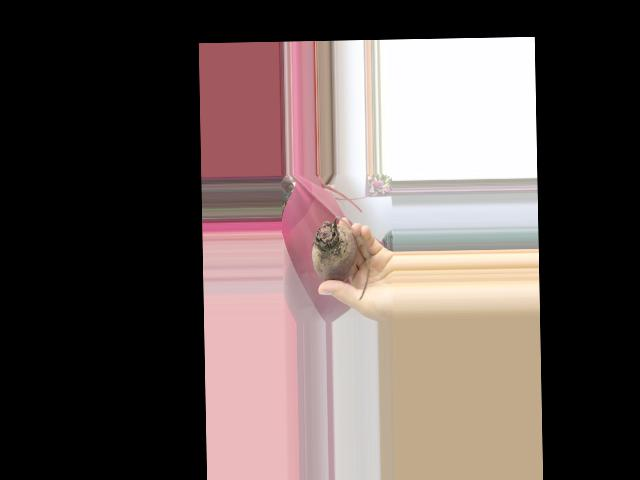beet: (311, 214, 370, 300)
